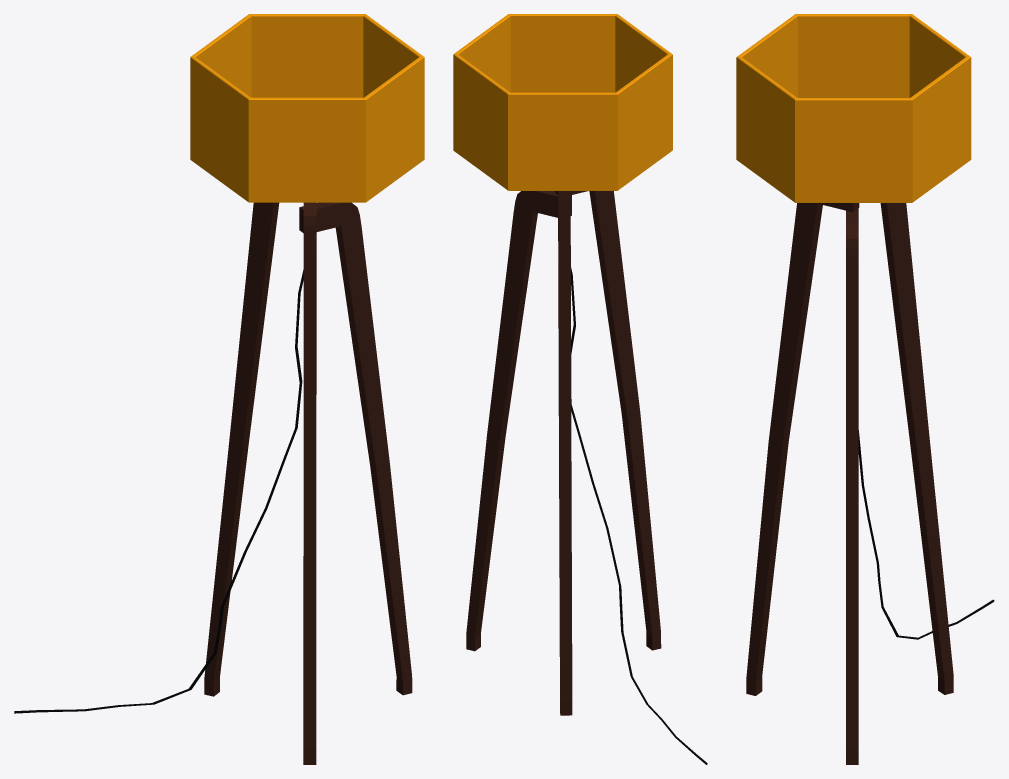
The model's file is abajour__lamp.glb.
The picture shows the model from 3 angles, left to right: view 1: azimuth 30°, elevation 25°; view 2: azimuth 150°, elevation 25°; view 3: azimuth 270°, elevation 25°; orthographic projection. The views are drawn at different scales.
Visible parts, largest first — view 1: Circle.003_9, Cube_0, Cube.002_2, Cube.001_1, Circle.001_4; view 2: Circle.003_9, Cube_0, Cube.001_1, Cube.002_2, Circle.001_4; view 3: Circle.003_9, Cube.001_1, Cube.002_2, Cube_0, Circle.001_4.
Boxes of the visible parts, <box> form: Circle.003_9: <box>190,14,424,202</box>; Cube_0: <box>299,202,412,695</box>; Cube.002_2: <box>204,202,279,696</box>; Cube.001_1: <box>303,202,316,764</box>; Circle.001_4: <box>14,269,303,713</box>; Circle.003_9: <box>453,14,672,190</box>; Cube_0: <box>466,191,571,651</box>; Cube.001_1: <box>555,191,661,650</box>; Cube.002_2: <box>558,191,572,715</box>; Circle.001_4: <box>571,267,707,764</box>; Circle.003_9: <box>736,14,971,202</box>; Cube.001_1: <box>746,203,859,695</box>; Cube.002_2: <box>880,203,953,694</box>; Cube_0: <box>846,208,858,764</box>; Circle.001_4: <box>858,430,994,639</box>.
Bounding box in the file's own units: 10.58 × 20.49 × 7.27.
1 material, 1 textured.
